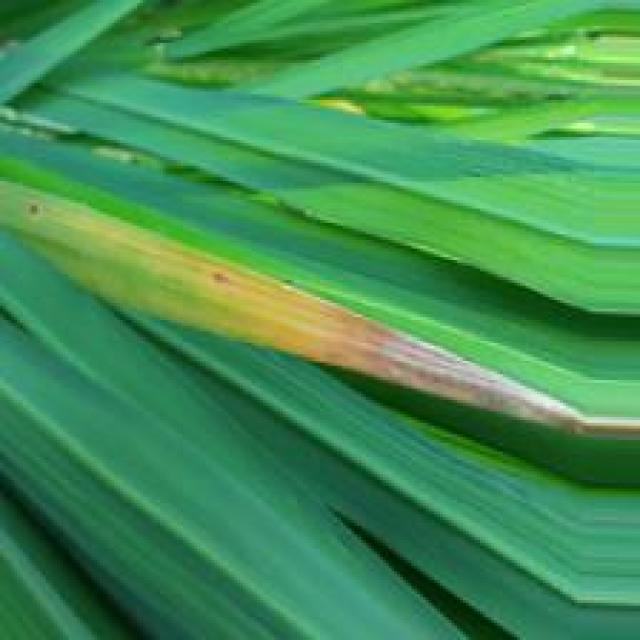Leaf_Scald: (345, 310, 638, 440)
